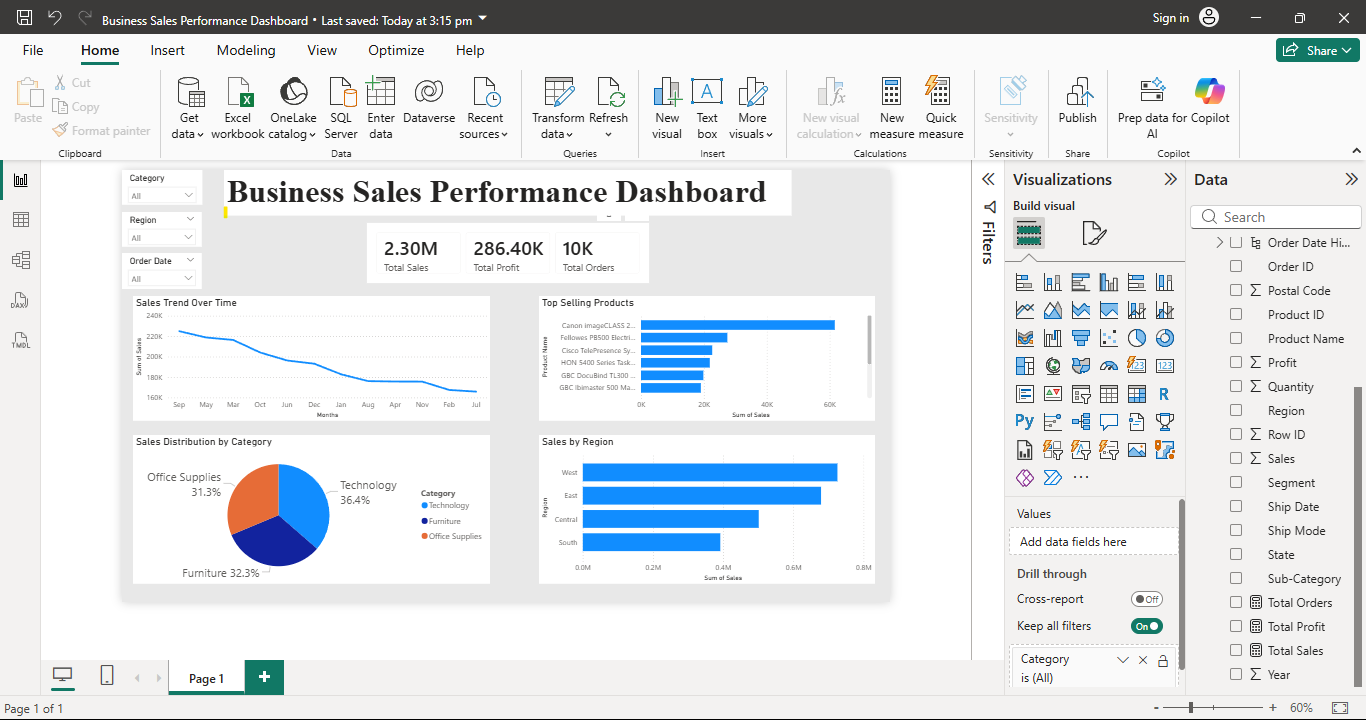

This screenshot's page, from the dashboard's own definition file:
{"tool":"powerbi","page":{"name":"Page 1","canvas":[1280,720],"ordinal":0},"visuals":[{"type":"lineChart","title":"Sales Trend Over Time","fields":{"Y":["Sum(Sample - Superstore.Sales)"],"Category":["Sample - Superstore.Months"]},"box":[18.3,210,595,208.3],"z":0},{"type":"barChart","title":"Top Selling Products","fields":{"Category":["Sample - Superstore.Product Name"],"Y":["Sum(Sample - Superstore.Sales)"]},"box":[695,210,560,208.3],"z":1000},{"type":"pieChart","title":"Sales Distribution by Category","fields":{"Category":["Sample - Superstore.Category"],"Y":["Sum(Sample - Superstore.Sales)"]},"box":[18.3,441.7,595,248.3],"z":2000},{"type":"barChart","title":"Sales by Region","fields":{"Category":["Sample - Superstore.Region"],"Y":["Sum(Sample - Superstore.Sales)"]},"box":[695,441.7,560,248.3],"z":3000},{"type":"cardVisual","fields":{"Data":["Sample - Superstore.Total Sales","Sample - Superstore.Total Profit","Sample - Superstore.Total Orders"]},"box":[406.7,86.7,473.3,103.3],"z":4000},{"type":"textbox","box":[170,0,946,76],"z":5000},{"type":"slicer","fields":{"Values":["Sample - Superstore.Category"]},"box":[0,0,134,58],"z":6000},{"type":"slicer","fields":{"Values":["Sample - Superstore.Region"]},"box":[0,70,133.3,58.3],"z":7000},{"type":"slicer","fields":{"Values":["Sample - Superstore.Order Date"]},"box":[0,138.3,133.3,60],"z":8000}]}

Visuals, with their boxes on the page's 1280x720 design canvas (x1, y1, x2, y2). These are canvas units, not pixel positions in the 1366x720 screenshot, which may show the page scaled, cropped or inside an application window:
"Sales Trend Over Time" lineChart: bbox=(18, 210, 613, 418)
"Top Selling Products" barChart: bbox=(695, 210, 1255, 418)
"Sales Distribution by Category" pieChart: bbox=(18, 442, 613, 690)
"Sales by Region" barChart: bbox=(695, 442, 1255, 690)
cardVisual - Sample - Superstore.Total Sales x Sample - Superstore.Total Profit: bbox=(407, 87, 880, 190)
textbox: bbox=(170, 0, 1116, 76)
slicer - Sample - Superstore.Category: bbox=(0, 0, 134, 58)
slicer - Sample - Superstore.Region: bbox=(0, 70, 133, 128)
slicer - Sample - Superstore.Order Date: bbox=(0, 138, 133, 198)
